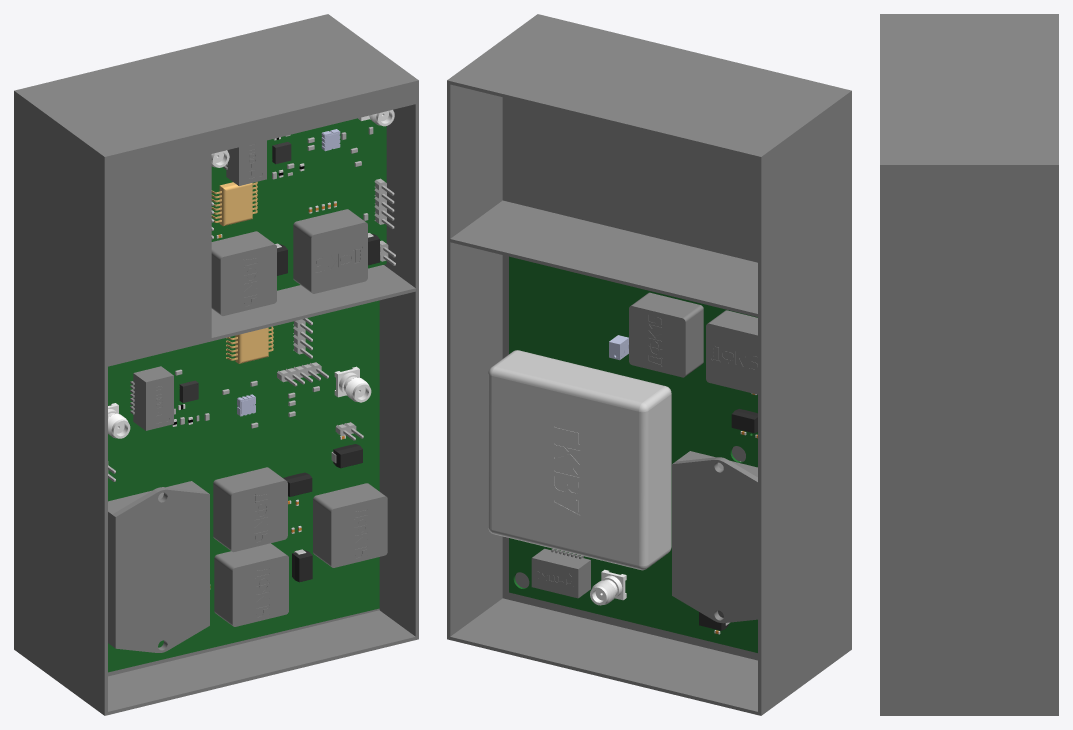
Rendered from ddl.glb.
3 views of the same model, side by side, from view 1: azimuth 30°, elevation 25°; view 2: azimuth 150°, elevation 25°; view 3: azimuth 270°, elevation 25° (orthographic).
Parts seen in each view (by area): view 1: ddl, Open CASCADE STEP translator 7.5 3.1.1, Ŕ10 (×5), ̈́ʱ0, Open CASCADE STEP translator 7.5 2.1.1, ӌ100-1-1 (×2), User Library-402,16-32 (×2), User Library-SMA_Stehend_Amp 132134RP-1_1; view 2: ddl, Ċ137-19, Open CASCADE STEP translator 7.5 1.1.1, ̈́ʱ0, Ŕ10 (×2), ӌ100-1-1, User Library-SMA_Stehend_Amp 132134RP-1_1; view 3: ddl.
Boxes of the visible parts, x1,y1,x2,y2 form: ddl: [14, 14, 418, 715]; Open CASCADE STEP translator 7.5 3.1.1: [108, 300, 379, 672]; Ŕ10 (×5): [211, 209, 387, 626]; ̈́ʱ0: [108, 481, 209, 652]; Open CASCADE STEP translator 7.5 2.1.1: [211, 118, 386, 290]; ӌ100-1-1 (×2): [130, 140, 266, 430]; User Library-402,16-32 (×2): [211, 182, 273, 363]; User Library-SMA_Stehend_Amp 132134RP-1_1: [334, 366, 371, 402]; ddl: [447, 14, 851, 715]; Ċ137-19: [488, 350, 671, 570]; Open CASCADE STEP translator 7.5 1.1.1: [509, 256, 757, 652]; ̈́ʱ0: [672, 451, 757, 623]; Ŕ10 (×2): [629, 292, 757, 394]; ӌ100-1-1: [531, 548, 590, 598]; User Library-SMA_Stehend_Amp 132134RP-1_1: [590, 569, 626, 605]; ddl: [880, 14, 1058, 715].
Bounding box in the file's own units: 100 × 170 × 50.
